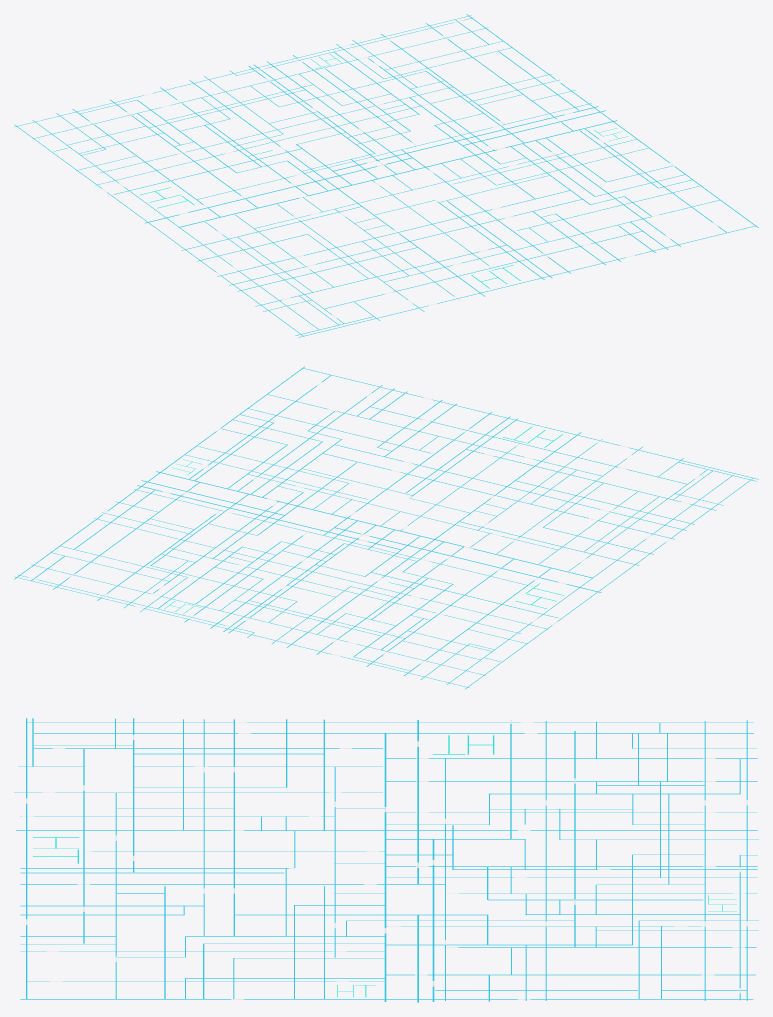
The model's file is HTground_sciencefiction_2001.obj.
The picture shows the model from 3 angles, top to bottom: view 1: azimuth 30°, elevation 25°; view 2: azimuth 150°, elevation 25°; view 3: azimuth 270°, elevation 25°; orthographic projection. The views are drawn at different scales.
Parts seen in each view (by area): view 1: polySurface136; view 2: polySurface136; view 3: polySurface136.
Boxes of the visible parts, left/top/right/bottom form: polySurface136: left=14, top=14, right=758, bottom=337; polySurface136: left=14, top=366, right=758, bottom=689; polySurface136: left=14, top=718, right=758, bottom=1002.
Size of the model in its own units: 20028 by 12.34 by 22175.
Materials: 1 (1 with a texture image).
